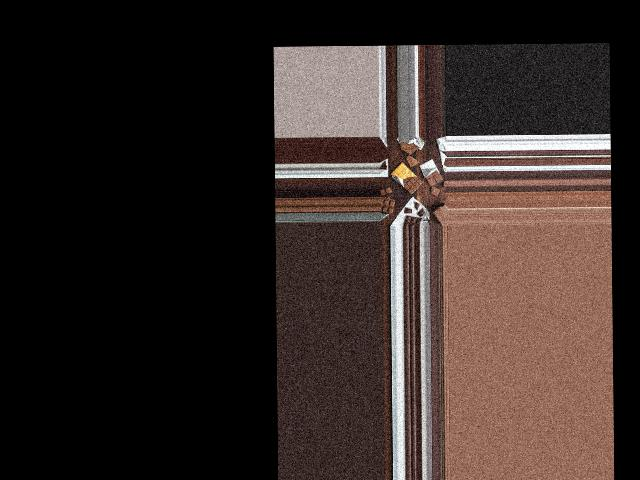chocolate: (418, 160, 445, 186)
